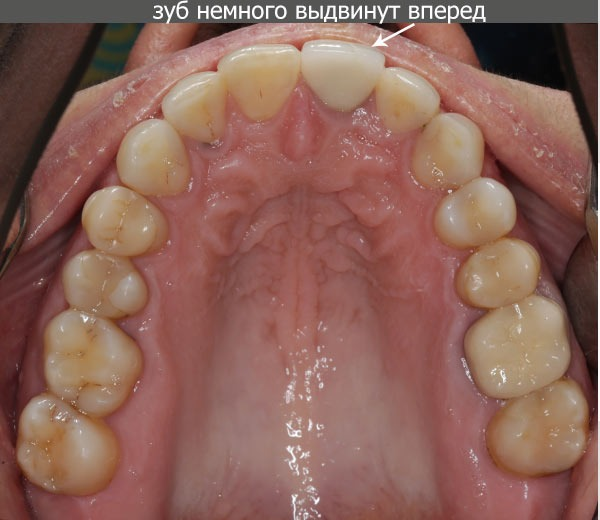UL1BC_healthy: (434, 178, 517, 244)
UL1M_healthy: (464, 297, 570, 394)
UL2BC_healthy: (457, 241, 539, 308)
UL2M_healthy: (493, 380, 585, 472)
ULCI_healthy: (300, 41, 384, 109)
ULC_healthy: (428, 116, 482, 185)
ULLI_healthy: (378, 68, 439, 130)
UR1BC_decay: (84, 189, 166, 256)
UR1M_decay: (43, 312, 141, 413)
UR2BC_healthy: (62, 252, 148, 318)
UR2M_decay: (19, 397, 116, 492)
URCI_decay: (220, 45, 300, 118)
URC_decay: (117, 120, 190, 194)
URLI_decay: (162, 72, 224, 142)
